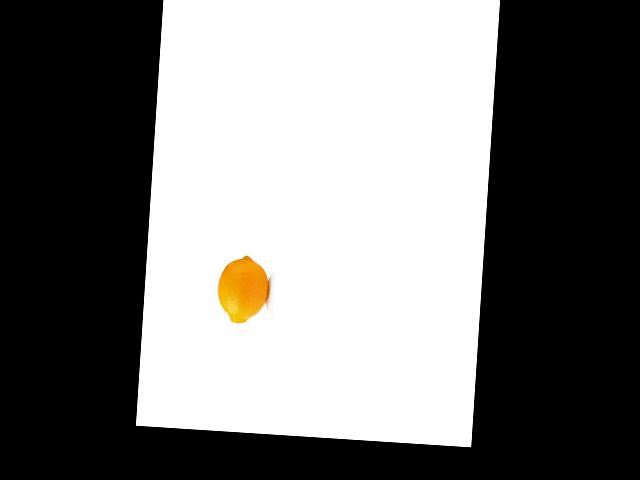lemon: (214, 252, 274, 328)
